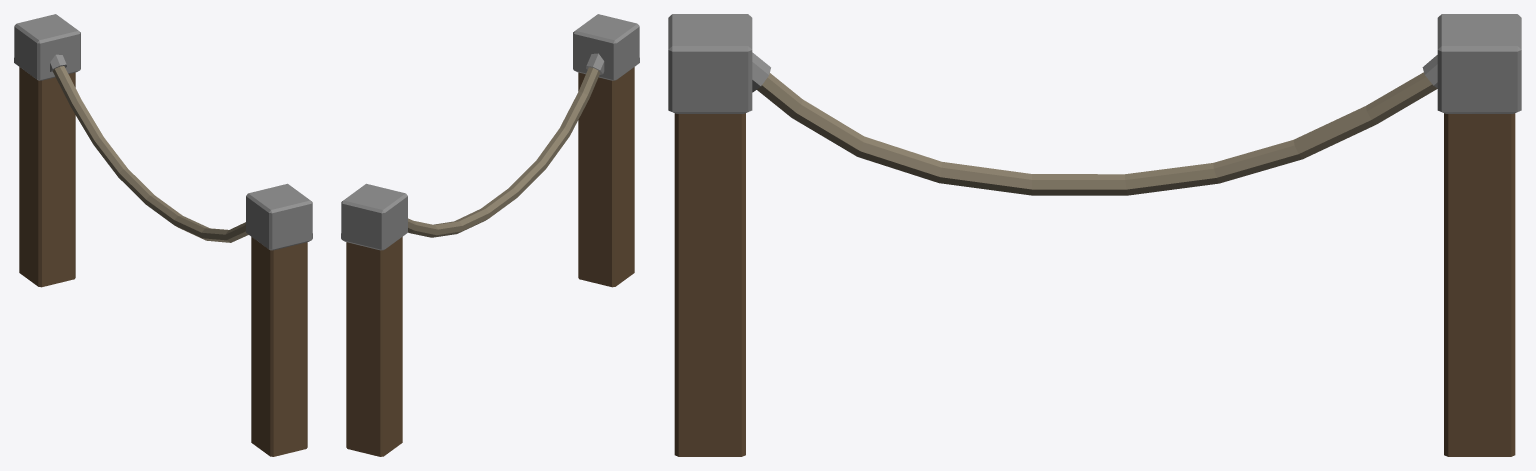
The model's file is Barriere_Mileu_Low_WIP.fbx.
3 renders of one model, left to right at view 1: azimuth 30°, elevation 25°; view 2: azimuth 150°, elevation 25°; view 3: azimuth 270°, elevation 25°, orthographic. The views are drawn at different scales.
Visible parts, largest first — view 1: Poteau1, Poteau, Corde; view 2: Poteau, Poteau1, Corde; view 3: Poteau, Poteau1, Corde.
Boxes of the visible parts, x1,y1,x2,y2 form: Poteau1: [246, 183, 312, 456]; Poteau: [14, 14, 80, 287]; Corde: [50, 54, 248, 242]; Poteau: [341, 183, 407, 456]; Poteau1: [573, 14, 639, 287]; Corde: [408, 53, 604, 237]; Poteau: [1437, 14, 1521, 456]; Poteau1: [668, 14, 752, 456]; Corde: [752, 52, 1437, 195].
Size of the model in its own units: 0.0855 by 0.4614 by 0.8667.
